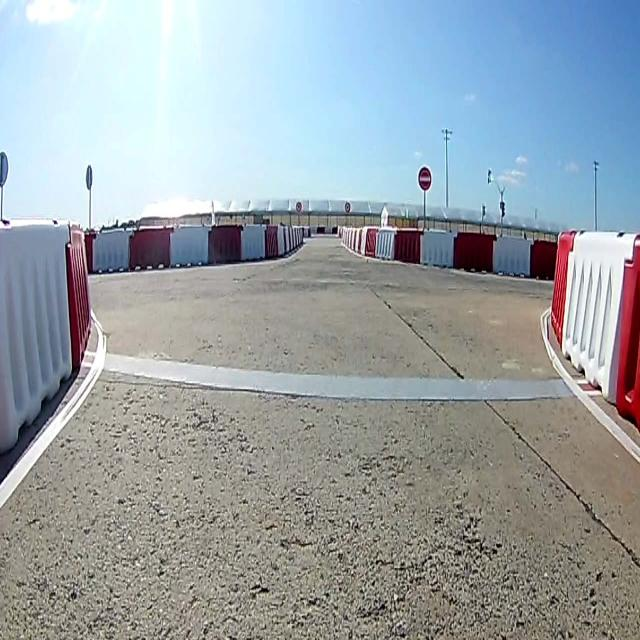girisyok: (418, 166, 430, 191)
